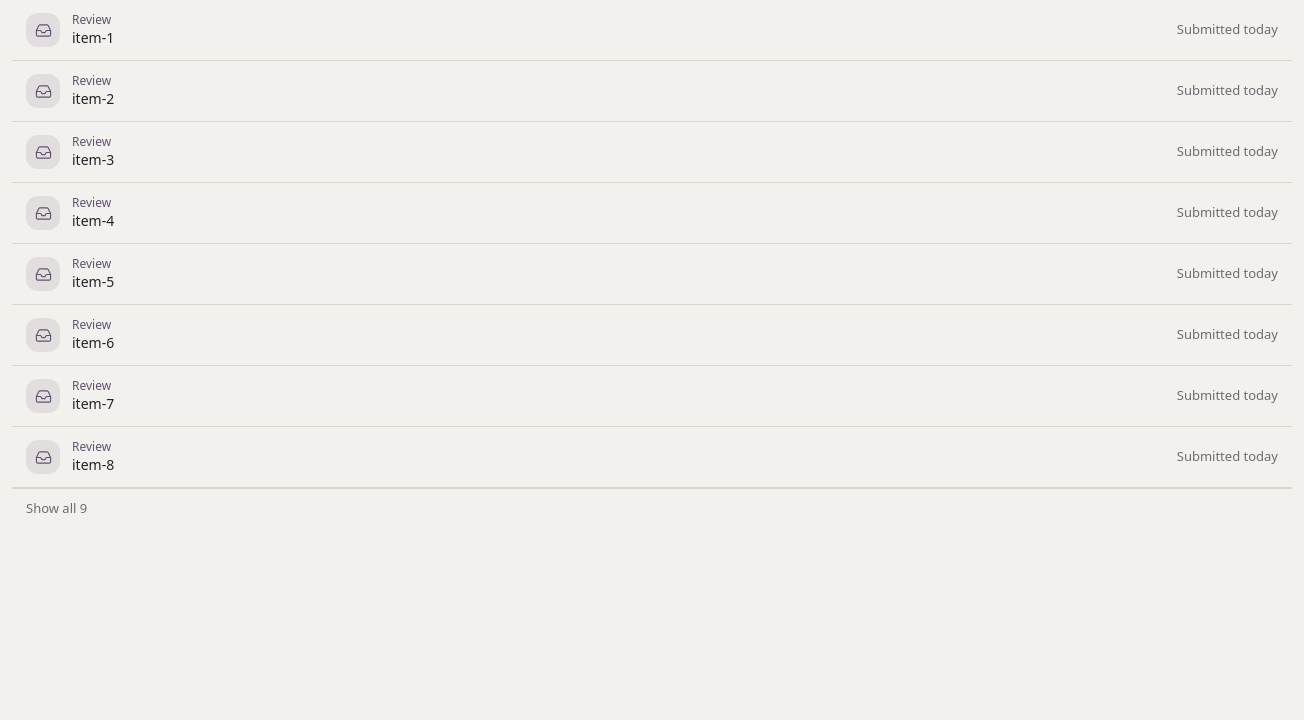
Test: the waiting-on-you list › never keeps work out of reach: what the first page leaves out opens in place
This screenshot has width=1304, height=720.
What coordinates should you click on to do the following:
click the button "Show all 9"
I would click on:
 (53, 508)
Its box is [12,488,1292,528].
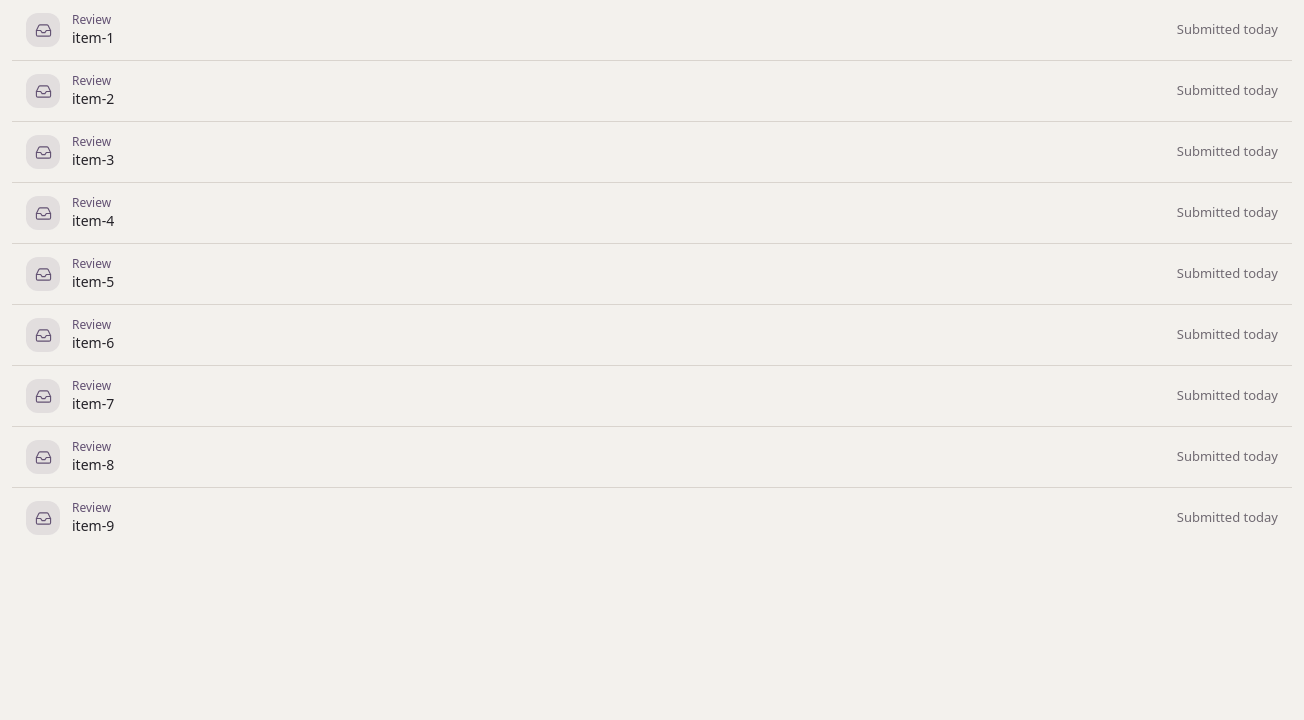
Now the text "Show all" is gone
